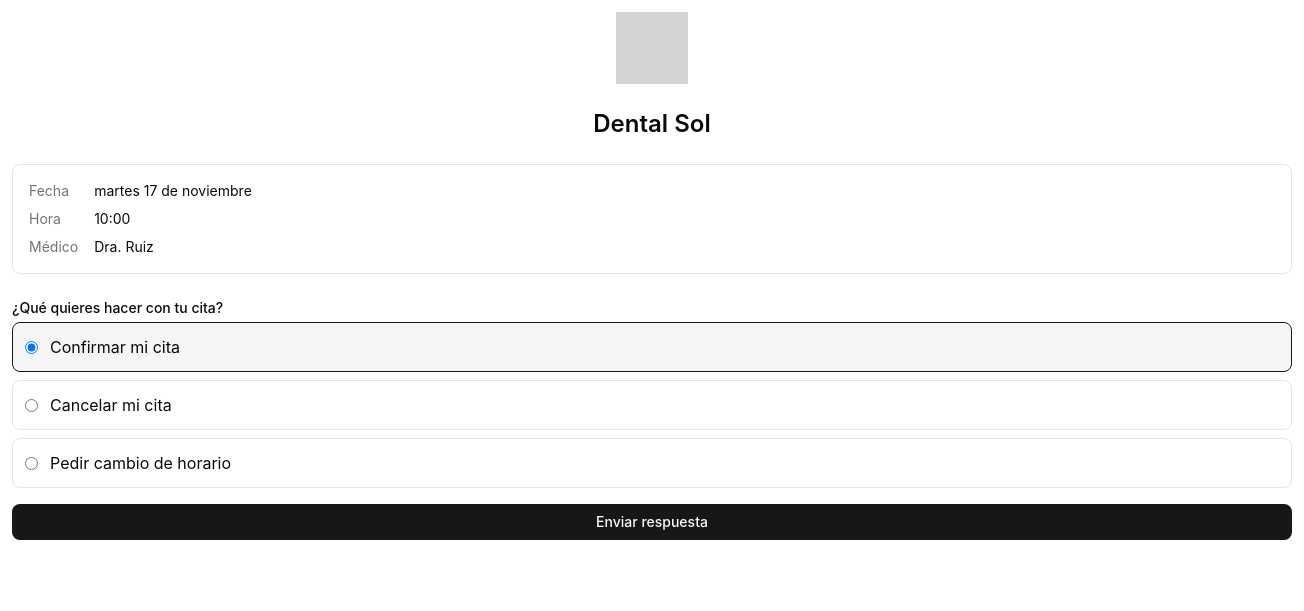
PaginaRespuesta › un error de la acción se muestra y deja volver a intentar
What coordinates should you click on to do the following:
click the button "Enviar respuesta"
I would click on:
 (652, 522)
Its box is [12,504,1292,540].
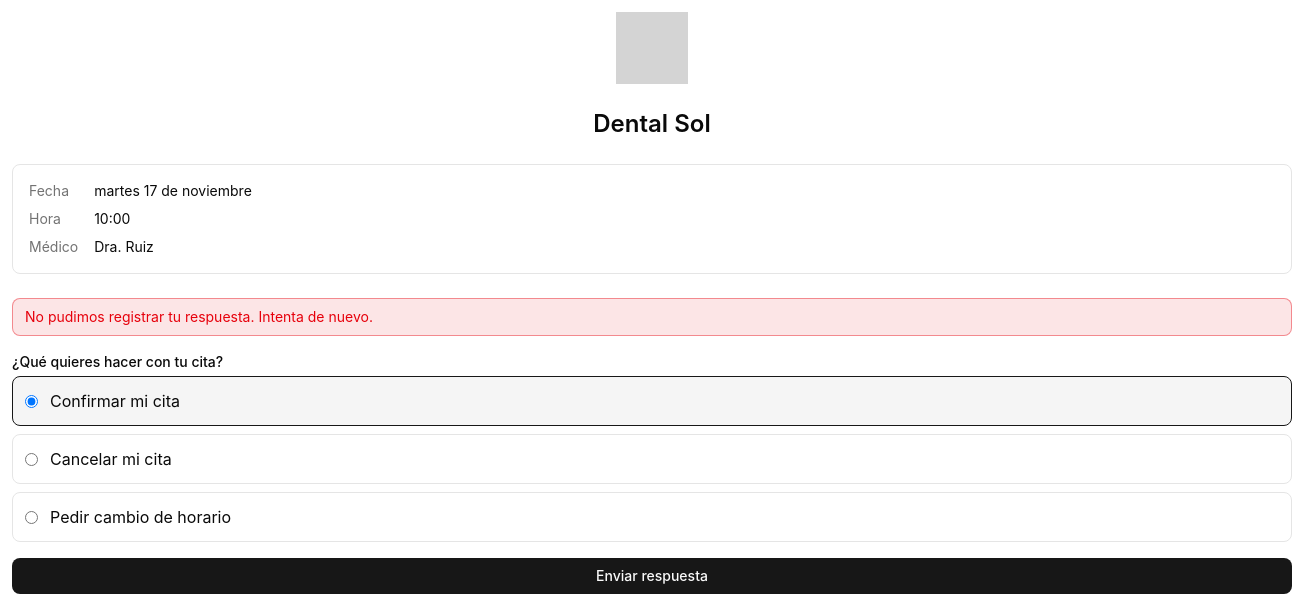
Expected: the button "Enviar respuesta" is enabled, [12,558,1292,594]
Now the message reads "No pudimos registrar tu respuesta. Intenta de nuevo.", box [25,308,373,325]
